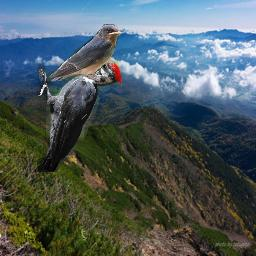Swallow: (48, 24, 123, 84)
Woodpecker: (37, 47, 122, 172)
